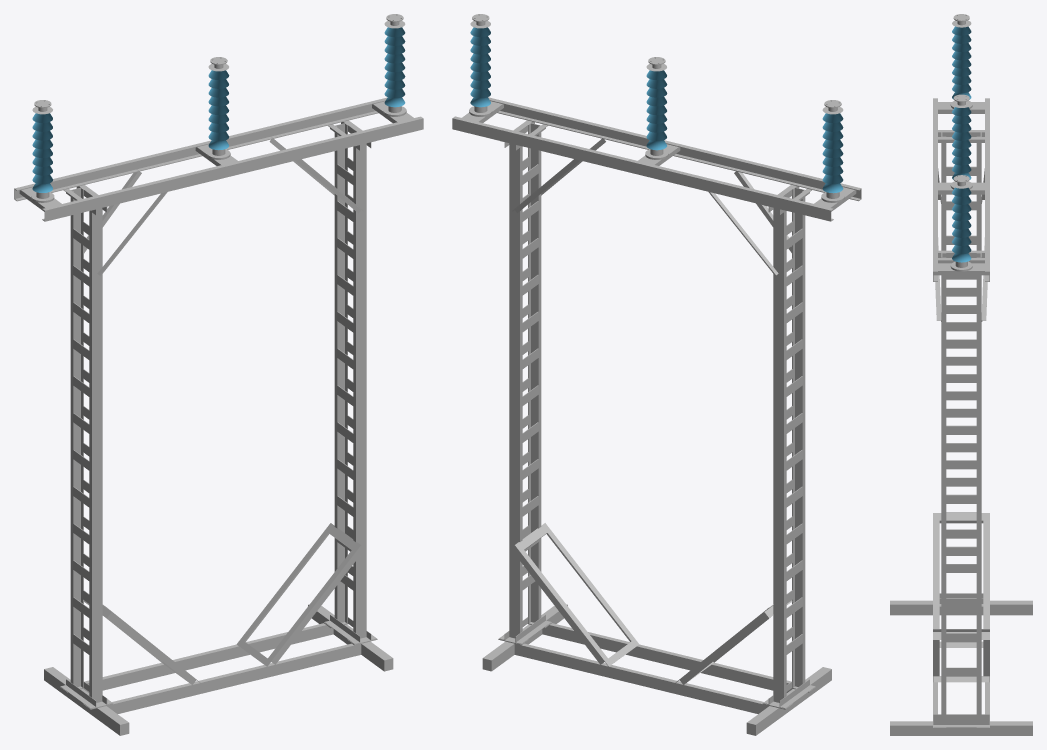
File: Б110-77-2-П-450Б-УХЛ1.fbx
The picture shows the model from 3 angles, left to right: view 1: azimuth 30°, elevation 25°; view 2: azimuth 150°, elevation 25°; view 3: azimuth 270°, elevation 25°; orthographic projection. The views are drawn at different scales.
Parts seen in each view (by area): view 1: Б110-77-2-П-450-УХЛ1; view 2: Б110-77-2-П-450-УХЛ1; view 3: Б110-77-2-П-450-УХЛ1.
Boxes of the visible parts, x1,y1,x2,y2 form: Б110-77-2-П-450-УХЛ1: (14,14,423,735); Б110-77-2-П-450-УХЛ1: (452,14,861,735); Б110-77-2-П-450-УХЛ1: (890,14,1032,735).
Size of the model in its own units: 4300 by 6665 by 1500.
